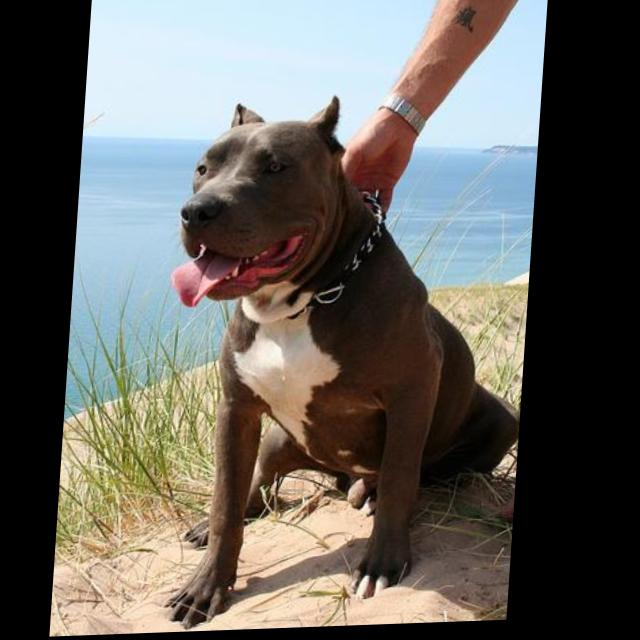amstaff: (158, 92, 543, 633)
